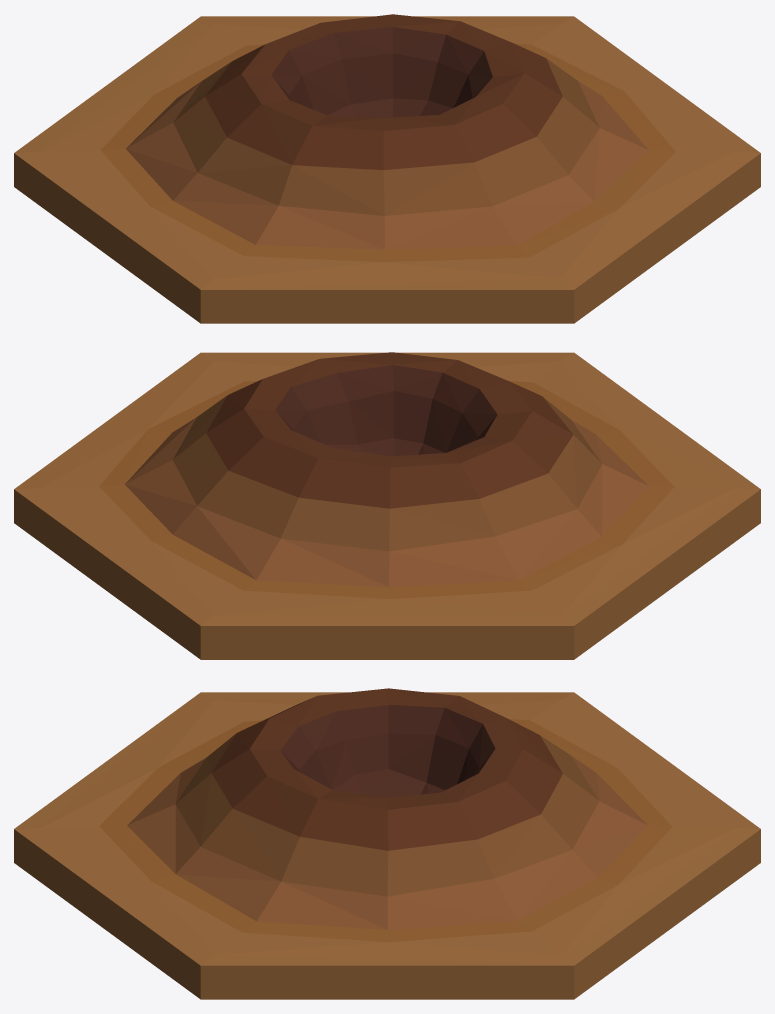
File: brick1.dae
The picture shows the model from 3 angles, top to bottom: view 1: azimuth 30°, elevation 25°; view 2: azimuth 150°, elevation 25°; view 3: azimuth 270°, elevation 25°; orthographic projection.
Parts seen in each view (by area): view 1: Cylinder; view 2: Cylinder; view 3: Cylinder.
Boxes of the visible parts, <box> form: Cylinder: <box>14,14,760,323</box>; Cylinder: <box>14,352,760,659</box>; Cylinder: <box>14,688,760,999</box>.
Bounding box in the file's own units: 1.73 × 2 × 0.3381.
